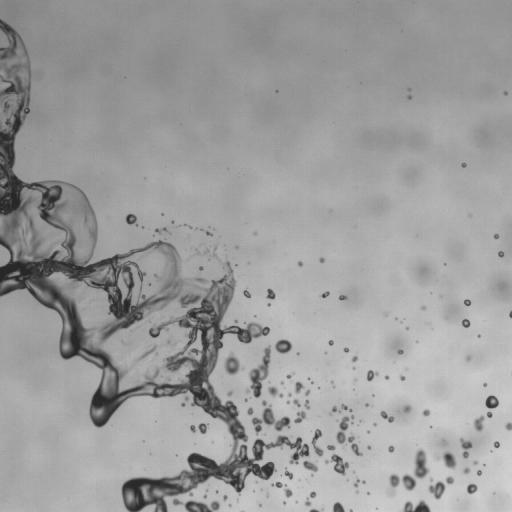droplet: (428, 476, 454, 499), (222, 351, 244, 375), (324, 454, 349, 475), (432, 450, 457, 469), (274, 338, 292, 354), (190, 422, 209, 434), (267, 386, 283, 398), (302, 460, 318, 472), (125, 213, 138, 226), (294, 410, 307, 423), (366, 370, 379, 381), (332, 501, 346, 511), (286, 398, 300, 407), (466, 483, 477, 494), (12, 137, 23, 148), (10, 164, 21, 175), (202, 236, 213, 247), (492, 239, 503, 250), (175, 244, 186, 255), (231, 289, 242, 300), (461, 307, 472, 318), (221, 333, 232, 344), (266, 333, 277, 344), (256, 335, 267, 346), (216, 349, 227, 360), (375, 364, 386, 375), (207, 372, 218, 383), (123, 396, 134, 407), (411, 404, 422, 415), (193, 405, 204, 416), (199, 411, 210, 422), (237, 412, 248, 423), (217, 420, 228, 431), (243, 423, 254, 434), (246, 430, 257, 441), (465, 430, 476, 441), (334, 444, 345, 455), (282, 445, 293, 456), (451, 447, 462, 458), (340, 449, 351, 460), (306, 451, 317, 462), (292, 462, 303, 473), (404, 464, 415, 475), (165, 467, 176, 478), (149, 468, 160, 479), (245, 472, 256, 483), (466, 472, 477, 483), (259, 477, 270, 488), (295, 489, 306, 500), (190, 490, 201, 501), (178, 491, 189, 502), (424, 495, 435, 506), (266, 288, 275, 300), (242, 289, 251, 298), (461, 318, 470, 327), (28, 89, 37, 98), (160, 217, 169, 226), (158, 232, 167, 241), (328, 292, 337, 301), (218, 319, 227, 328), (333, 341, 342, 350), (269, 349, 278, 358), (389, 373, 398, 382), (260, 379, 269, 388), (259, 386, 268, 395), (175, 392, 184, 401), (296, 392, 305, 401), (159, 395, 168, 404), (254, 409, 263, 418), (272, 411, 281, 420), (334, 411, 343, 420), (109, 412, 118, 421), (481, 417, 490, 426), (280, 426, 289, 435), (302, 435, 311, 444), (245, 438, 254, 447), (315, 438, 324, 447), (200, 448, 209, 457), (322, 449, 331, 458), (214, 456, 223, 465), (423, 459, 432, 468), (444, 466, 453, 475), (133, 469, 142, 478), (269, 472, 278, 481), (207, 475, 216, 484), (285, 479, 294, 488), (196, 481, 205, 490), (225, 484, 234, 493), (256, 492, 265, 501), (163, 494, 172, 503), (310, 499, 319, 508), (403, 404, 411, 413), (246, 406, 254, 415), (505, 248, 511, 259), (141, 505, 152, 511), (166, 505, 177, 511), (175, 505, 186, 511), (304, 399, 310, 409), (422, 409, 430, 416), (504, 422, 511, 430), (462, 467, 470, 474), (0, 29, 5, 40), (0, 213, 5, 224), (0, 256, 5, 267), (338, 294, 347, 300), (326, 444, 335, 450), (464, 299, 471, 306), (351, 355, 358, 362), (398, 374, 405, 381), (5, 18, 12, 25), (17, 126, 24, 133), (152, 234, 159, 241), (118, 247, 125, 254), (232, 271, 239, 278), (21, 287, 28, 294), (10, 289, 17, 296), (46, 307, 53, 314), (239, 322, 246, 329), (288, 347, 295, 354), (346, 351, 353, 358), (234, 352, 241, 359), (72, 354, 79, 361), (237, 358, 244, 365), (291, 375, 298, 382), (301, 379, 308, 386), (288, 383, 295, 390), (309, 384, 316, 391), (276, 385, 283, 392), (89, 386, 96, 393), (186, 391, 193, 398), (291, 392, 298, 399), (298, 404, 305, 411), (342, 409, 349, 416), (288, 414, 295, 421), (86, 419, 93, 426), (259, 421, 266, 428), (468, 423, 475, 430), (343, 429, 350, 436), (225, 432, 232, 439), (256, 432, 263, 439), (262, 436, 269, 443), (330, 438, 337, 445), (307, 446, 314, 453), (183, 449, 190, 456), (437, 450, 444, 457), (246, 451, 253, 458), (297, 455, 304, 462), (438, 457, 445, 464), (257, 459, 264, 466), (470, 465, 477, 472), (396, 471, 403, 478), (414, 476, 421, 483), (383, 478, 390, 485), (397, 480, 404, 487), (115, 484, 122, 491), (277, 487, 284, 494), (441, 490, 448, 497), (215, 495, 222, 502), (287, 495, 294, 502), (204, 499, 211, 506), (218, 499, 225, 506), (411, 500, 418, 507), (342, 504, 349, 511), (388, 445, 394, 453), (229, 506, 238, 511), (324, 506, 333, 511), (318, 257, 325, 263), (465, 355, 471, 362), (304, 389, 310, 396), (493, 441, 499, 448), (493, 233, 499, 239), (498, 251, 504, 257), (297, 261, 303, 267), (383, 311, 389, 317), (343, 347, 349, 353), (227, 390, 233, 396), (0, 67, 4, 76), (0, 81, 4, 90), (420, 305, 426, 310), (397, 349, 403, 354), (384, 374, 389, 380), (472, 460, 478, 465), (476, 470, 482, 475), (223, 494, 227, 501), (507, 89, 511, 96), (121, 507, 128, 511), (216, 507, 223, 511), (256, 507, 263, 511), (407, 94, 412, 99), (461, 162, 466, 167), (328, 340, 333, 345), (22, 38, 27, 43), (24, 43, 29, 48), (26, 49, 31, 54), (28, 56, 33, 61), (29, 64, 34, 69), (30, 70, 35, 75), (4, 82, 9, 87), (404, 90, 409, 95), (408, 90, 413, 95), (27, 103, 32, 108), (32, 177, 37, 182), (85, 192, 90, 197), (89, 201, 94, 206), (129, 209, 134, 214), (95, 215, 100, 220), (121, 217, 126, 222), (135, 218, 140, 223), (173, 220, 178, 225), (130, 222, 135, 227), (157, 224, 162, 229), (183, 225, 188, 230), (207, 227, 212, 232), (149, 228, 154, 233), (200, 230, 205, 235), (96, 231, 101, 236), (166, 238, 171, 243), (95, 239, 100, 244), (170, 240, 175, 245), (140, 242, 145, 247), (208, 246, 213, 251), (198, 247, 203, 252), (214, 249, 219, 254), (108, 252, 113, 257), (298, 256, 303, 261), (221, 257, 226, 262), (314, 258, 319, 263), (88, 259, 93, 264), (323, 259, 328, 264), (229, 263, 234, 268), (294, 264, 299, 269), (272, 288, 277, 293), (320, 288, 325, 293), (27, 293, 32, 298), (266, 297, 271, 302), (421, 300, 426, 305), (56, 315, 61, 320), (251, 317, 256, 322), (402, 321, 407, 326), (260, 322, 265, 327), (55, 333, 60, 338), (232, 333, 237, 338), (259, 334, 264, 339), (281, 335, 286, 340), (250, 336, 255, 341), (287, 337, 292, 342), (239, 341, 244, 346), (54, 346, 59, 351), (260, 351, 265, 356), (56, 353, 61, 358), (356, 353, 361, 358), (258, 359, 263, 364), (353, 360, 358, 365), (267, 361, 272, 366), (89, 362, 94, 367), (97, 368, 102, 373), (401, 371, 406, 376), (362, 372, 367, 377), (372, 375, 377, 380), (395, 376, 400, 381), (283, 377, 288, 382), (247, 380, 252, 385), (225, 386, 230, 391), (299, 387, 304, 392), (488, 390, 493, 395), (274, 394, 279, 399), (282, 394, 287, 399), (305, 394, 310, 399), (148, 395, 153, 400), (496, 395, 501, 400), (155, 396, 160, 401), (288, 396, 293, 401), (481, 396, 486, 401), (299, 399, 304, 404), (220, 400, 225, 405), (232, 400, 237, 405), (343, 400, 348, 405), (402, 400, 407, 405), (407, 400, 412, 405), (289, 401, 294, 406), (336, 404, 341, 409), (399, 404, 404, 409), (327, 405, 332, 410), (419, 406, 424, 411), (484, 406, 489, 411), (488, 407, 493, 412), (428, 408, 433, 413), (386, 411, 391, 416), (249, 413, 254, 418), (474, 413, 479, 418), (423, 415, 428, 420), (483, 415, 488, 420), (214, 416, 219, 421), (352, 417, 357, 422), (301, 418, 306, 423), (383, 418, 388, 423), (469, 418, 474, 423), (288, 420, 293, 425), (296, 421, 301, 426), (500, 424, 505, 429), (368, 425, 373, 430), (335, 426, 340, 431), (309, 432, 314, 437), (463, 436, 468, 441), (290, 438, 295, 443), (352, 438, 357, 443), (470, 440, 475, 445), (346, 441, 351, 446), (274, 445, 279, 450), (291, 447, 296, 452), (357, 447, 362, 452), (459, 447, 464, 452), (466, 447, 471, 452), (392, 448, 397, 453), (341, 457, 346, 462), (330, 460, 335, 465), (273, 463, 278, 468), (477, 464, 482, 469), (287, 467, 292, 472), (343, 467, 348, 472), (306, 468, 311, 473), (248, 471, 253, 476), (336, 472, 341, 477), (292, 473, 297, 478), (452, 479, 457, 484), (431, 480, 436, 485), (357, 481, 362, 486), (272, 485, 277, 490), (462, 485, 467, 490), (476, 485, 481, 490), (190, 487, 195, 492), (290, 487, 295, 492), (240, 488, 245, 493), (261, 490, 266, 495), (305, 491, 310, 496), (471, 491, 476, 496), (308, 497, 313, 502), (225, 498, 230, 503), (399, 503, 404, 508), (308, 504, 313, 509), (287, 391, 291, 397), (0, 105, 3, 112), (0, 244, 3, 251), (503, 90, 507, 95), (252, 231, 257, 235), (234, 245, 239, 249), (483, 382, 487, 387), (267, 302, 271, 306), (405, 326, 409, 330), (353, 378, 357, 382), (244, 398, 248, 402), (365, 403, 369, 407), (373, 422, 377, 426), (367, 445, 371, 449), (254, 479, 258, 483), (366, 491, 370, 495), (258, 503, 262, 507), (348, 508, 353, 511), (508, 418, 511, 423), (508, 429, 511, 434), (407, 88, 411, 91), (477, 334, 481, 337), (352, 366, 355, 370), (404, 367, 408, 370), (307, 376, 310, 380), (310, 381, 314, 384), (429, 425, 433, 428), (366, 430, 370, 433), (211, 440, 215, 443), (215, 489, 218, 493), (355, 490, 359, 493), (283, 501, 286, 505), (228, 503, 231, 507), (275, 89, 278, 92), (468, 214, 471, 217), (171, 220, 174, 223), (141, 226, 144, 229), (443, 262, 446, 265), (439, 294, 442, 297), (253, 314, 256, 317), (415, 340, 418, 343), (324, 351, 327, 354), (296, 352, 299, 355), (317, 386, 320, 389), (352, 470, 355, 473), (346, 478, 349, 481), (260, 488, 263, 491), (492, 491, 495, 494), (295, 500, 298, 503), (20, 35, 23, 38), (275, 86, 278, 89), (505, 88, 508, 91), (500, 89, 503, 92), (275, 92, 278, 95), (501, 93, 504, 96), (411, 96, 414, 99), (406, 98, 409, 101), (461, 159, 464, 162), (464, 160, 467, 163), (460, 166, 463, 169), (463, 166, 466, 169), (68, 180, 71, 183), (73, 182, 76, 185), (76, 184, 79, 187), (160, 209, 163, 212), (157, 212, 160, 215), (160, 215, 163, 218), (168, 218, 171, 221), (183, 220, 186, 223), (180, 221, 183, 224), (192, 225, 195, 228), (197, 225, 200, 228), (143, 226, 146, 229), (165, 226, 168, 229), (177, 226, 180, 229), (196, 228, 199, 231), (161, 230, 164, 233), (494, 230, 497, 233), (154, 231, 157, 234), (497, 232, 500, 235), (207, 234, 210, 237), (490, 234, 493, 237), (161, 238, 164, 241), (495, 238, 498, 241), (194, 244, 197, 247), (496, 248, 499, 251), (501, 248, 504, 251), (192, 249, 195, 252), (503, 252, 506, 255), (322, 255, 325, 258), (496, 255, 499, 258), (443, 259, 446, 262), (234, 260, 237, 263), (441, 264, 444, 267), (246, 288, 249, 291), (342, 292, 345, 295), (336, 293, 339, 296), (274, 294, 277, 297), (242, 295, 245, 298), (325, 295, 328, 298), (464, 296, 467, 299), (246, 297, 249, 300), (469, 298, 472, 301), (340, 299, 343, 302), (460, 300, 463, 303), (470, 301, 473, 304), (462, 303, 465, 306), (466, 305, 469, 308), (420, 309, 423, 312), (252, 311, 255, 314), (506, 311, 509, 314), (506, 314, 509, 317), (461, 316, 464, 319), (391, 317, 394, 320), (397, 317, 400, 320), (467, 317, 470, 320), (402, 319, 405, 322), (469, 321, 472, 324), (267, 324, 270, 327), (461, 325, 464, 328), (466, 326, 469, 329), (408, 327, 411, 330), (404, 329, 407, 332), (474, 333, 477, 336), (479, 335, 482, 338), (475, 336, 478, 339), (332, 339, 335, 342), (326, 343, 329, 346), (330, 344, 333, 347), (345, 344, 348, 347), (399, 346, 402, 349), (340, 348, 343, 351), (342, 351, 345, 354), (298, 353, 301, 356), (400, 353, 403, 356), (349, 368, 352, 371), (287, 371, 290, 374), (386, 372, 389, 375), (388, 375, 391, 378), (404, 376, 407, 379), (383, 378, 386, 381), (327, 379, 330, 382), (402, 379, 405, 382), (333, 380, 336, 383), (480, 381, 483, 384), (329, 383, 332, 386), (486, 383, 489, 386), (352, 384, 355, 387), (480, 384, 483, 387), (319, 386, 322, 389), (354, 387, 357, 390), (371, 390, 374, 393), (368, 393, 371, 396), (374, 393, 377, 396), (363, 400, 366, 403), (362, 404, 365, 407), (367, 405, 370, 408), (351, 407, 354, 410), (338, 418, 341, 421), (390, 421, 393, 424), (428, 422, 431, 425), (431, 423, 434, 426), (375, 424, 378, 427), (187, 426, 190, 429), (317, 426, 320, 429), (428, 427, 431, 430), (320, 430, 323, 433), (364, 432, 367, 435), (368, 432, 371, 435), (498, 441, 501, 444), (389, 442, 392, 445), (370, 445, 373, 448), (497, 446, 500, 449), (385, 447, 388, 450), (486, 449, 489, 452), (390, 451, 393, 454), (489, 452, 492, 455), (337, 453, 340, 456), (172, 454, 175, 457), (482, 460, 485, 463), (485, 463, 488, 466), (480, 473, 483, 476), (364, 478, 367, 481), (353, 486, 356, 489), (254, 488, 257, 491), (368, 489, 371, 492), (212, 490, 215, 493), (205, 491, 208, 494), (315, 491, 318, 494), (364, 493, 367, 496), (268, 495, 271, 498), (303, 498, 306, 501), (259, 500, 262, 503), (280, 502, 283, 505), (231, 503, 234, 506), (255, 503, 258, 506), (261, 503, 264, 506), (376, 504, 379, 507), (372, 506, 375, 509), (372, 393, 374, 397), (262, 433, 266, 435), (161, 213, 164, 215), (395, 317, 397, 320), (175, 454, 178, 456), (311, 473, 313, 476), (298, 478, 300, 481), (252, 489, 254, 492), (375, 507, 378, 509), (352, 509, 355, 511), (375, 509, 378, 511), (144, 177, 146, 179), (208, 226, 210, 228), (213, 228, 215, 230), (235, 264, 237, 266), (400, 321, 402, 323), (249, 397, 251, 399), (142, 440, 144, 442), (490, 450, 492, 452), (164, 238, 165, 240), (430, 293, 431, 294), (280, 475, 281, 476)
ligament: (386, 448, 430, 497), (328, 403, 362, 457), (245, 345, 270, 398), (473, 395, 499, 431), (286, 371, 305, 394), (398, 499, 431, 511), (310, 428, 323, 457), (270, 481, 292, 498), (459, 437, 472, 458), (304, 490, 316, 506), (194, 227, 213, 236), (380, 410, 394, 422), (154, 227, 171, 235), (283, 467, 293, 479), (175, 223, 192, 229), (319, 291, 329, 298), (309, 507, 324, 511), (203, 487, 208, 498), (280, 380, 286, 389), (357, 419, 363, 426), (330, 380, 335, 388), (266, 491, 269, 498), (509, 310, 511, 318), (152, 234, 154, 237), (268, 380, 270, 383), (352, 388, 354, 391), (483, 463, 485, 466), (240, 510, 245, 511), (237, 498, 238, 502)
